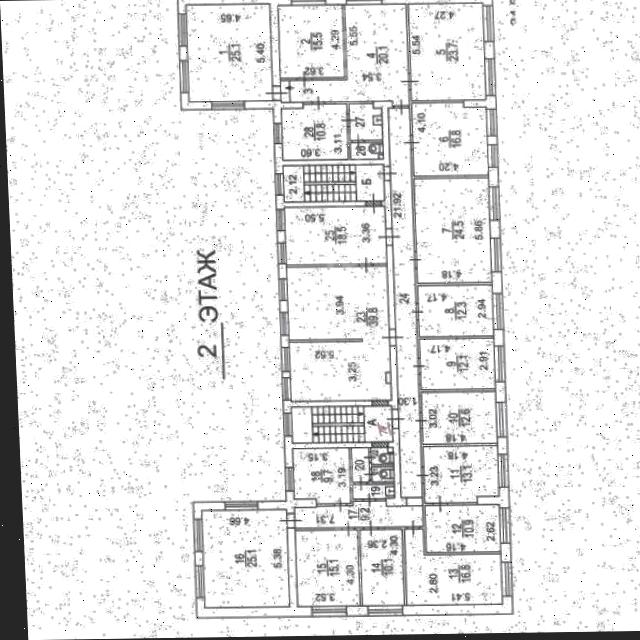room: (285, 263, 390, 403), (386, 107, 421, 497), (278, 3, 408, 105), (201, 509, 288, 608), (184, 2, 270, 102), (412, 176, 490, 284), (407, 1, 483, 101), (404, 527, 502, 604), (283, 205, 385, 264), (410, 100, 486, 177), (294, 528, 359, 607), (276, 4, 342, 78), (422, 445, 498, 502), (420, 390, 496, 443), (418, 337, 494, 389), (416, 284, 492, 335), (279, 103, 346, 159), (282, 164, 382, 201), (291, 406, 391, 442), (424, 504, 500, 551), (293, 500, 422, 527), (360, 528, 403, 605), (292, 447, 349, 503), (347, 102, 380, 140), (350, 447, 368, 482), (352, 483, 393, 498), (349, 142, 380, 158), (370, 447, 392, 464), (371, 466, 392, 481)
